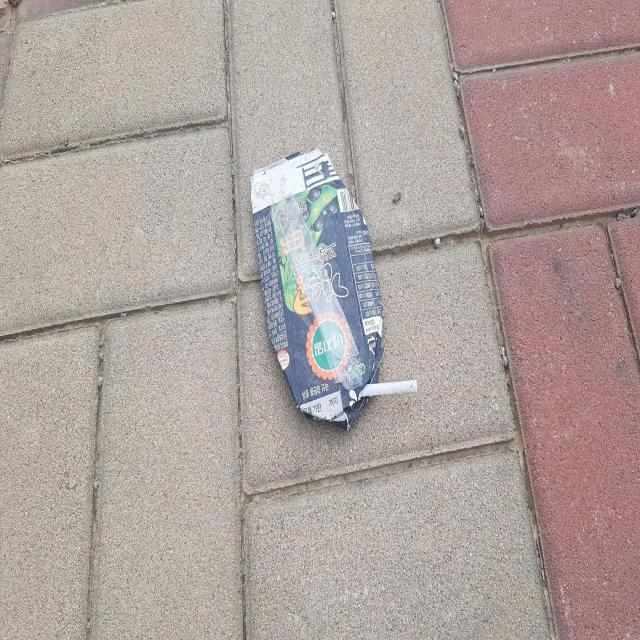paperpack: (251, 148, 383, 429)
